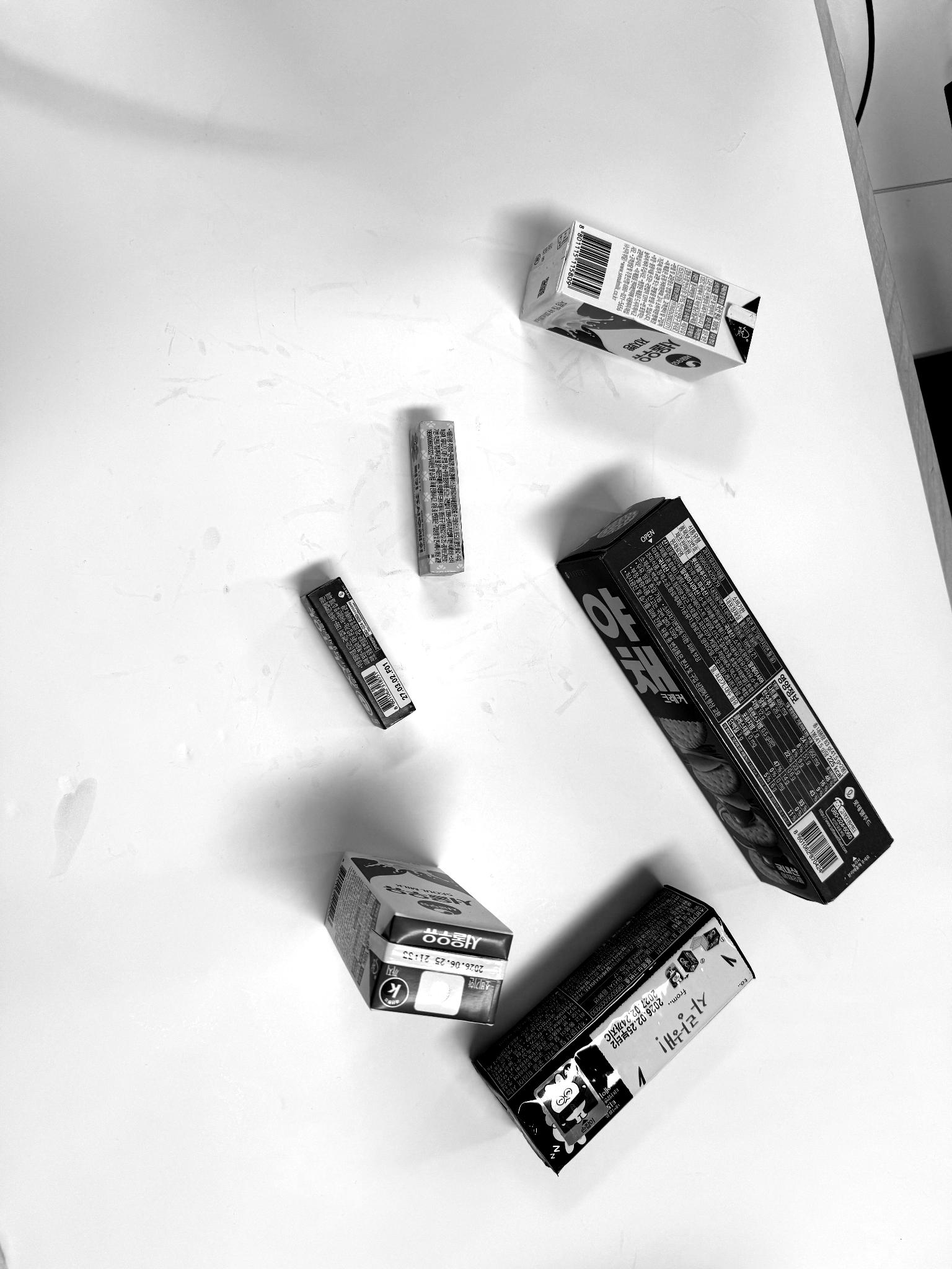cracker_vege: (551, 500, 896, 906)
gum_green: (298, 574, 416, 730)
gum_yellow: (401, 413, 465, 577)
milk_blue: (514, 219, 764, 385)
milk_green: (320, 853, 513, 1022)
